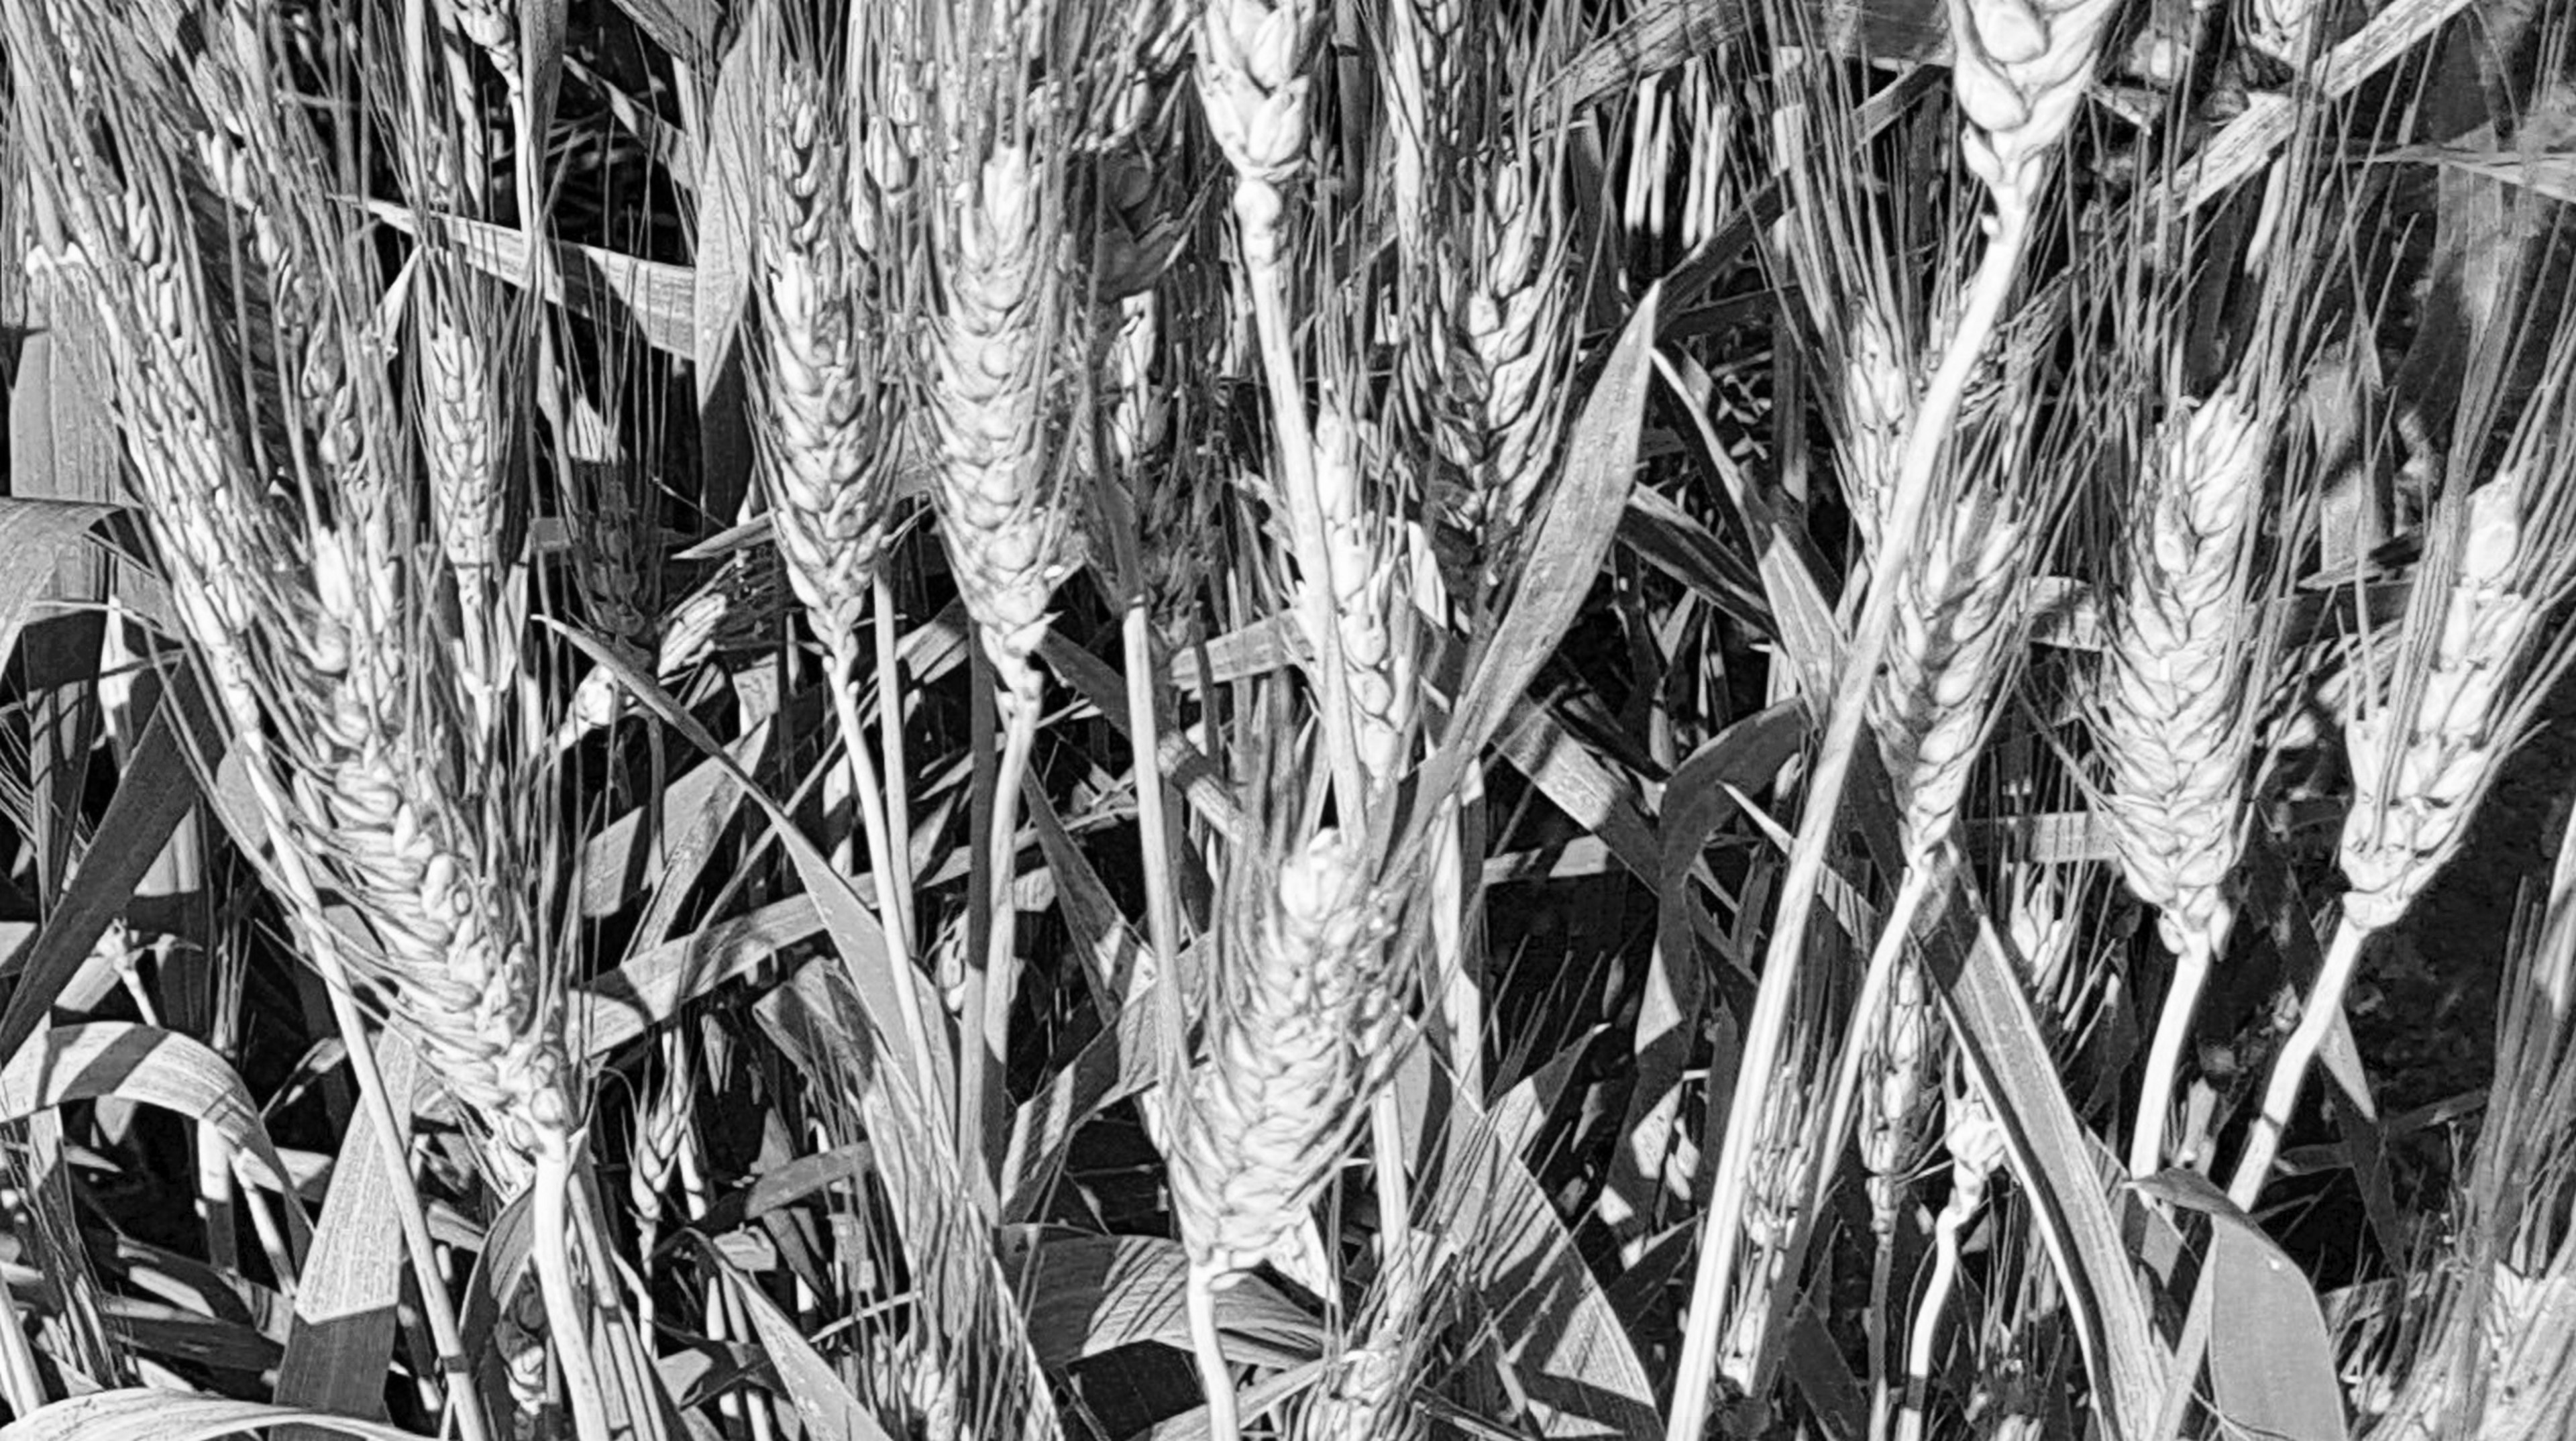Healthy Wheat: (747, 156, 1100, 667), (2082, 347, 2327, 936), (1146, 830, 1407, 1298), (311, 745, 594, 1142)
